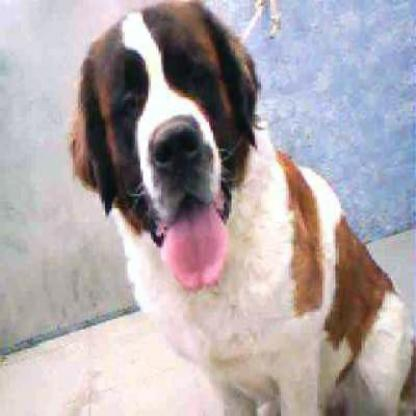Saint_Bernard: (64, 0, 413, 412)
